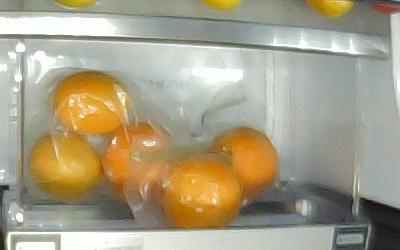orange_vinyl: (161, 157, 241, 228), (210, 127, 280, 196), (54, 71, 128, 134), (30, 132, 100, 198), (101, 123, 167, 190)
